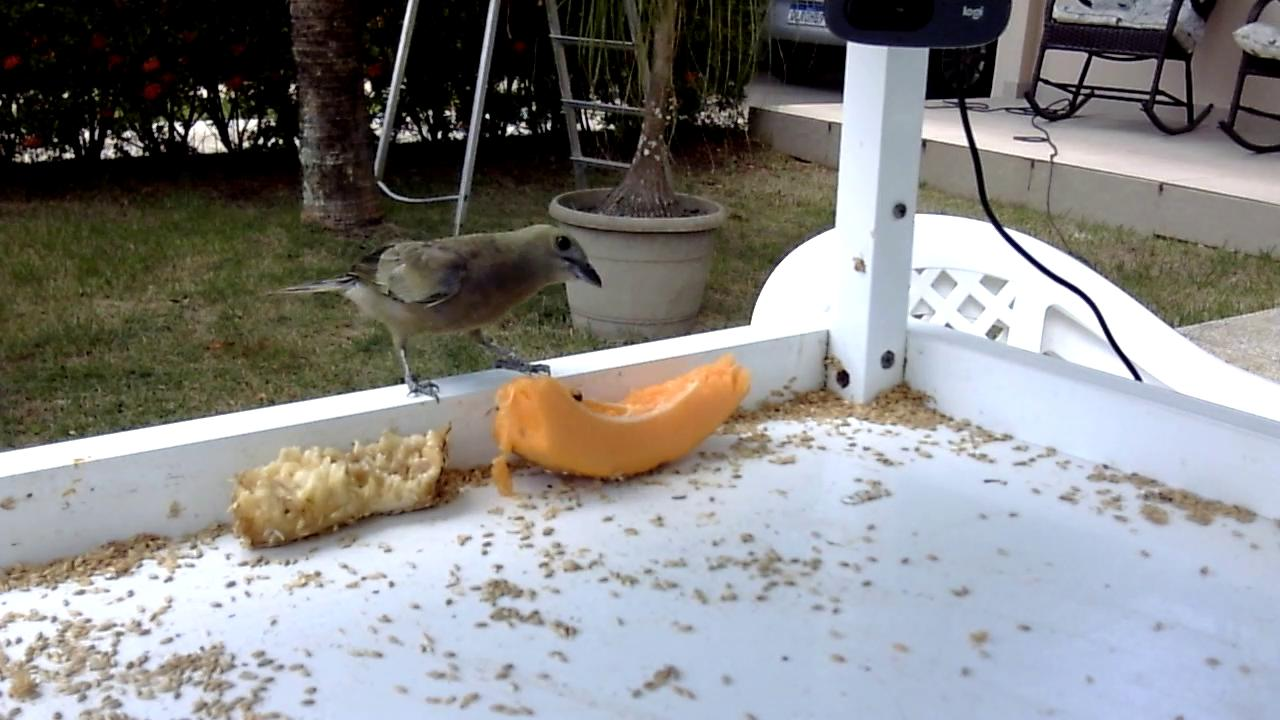sanhaco_do_coqueiro: (266, 221, 606, 407)
